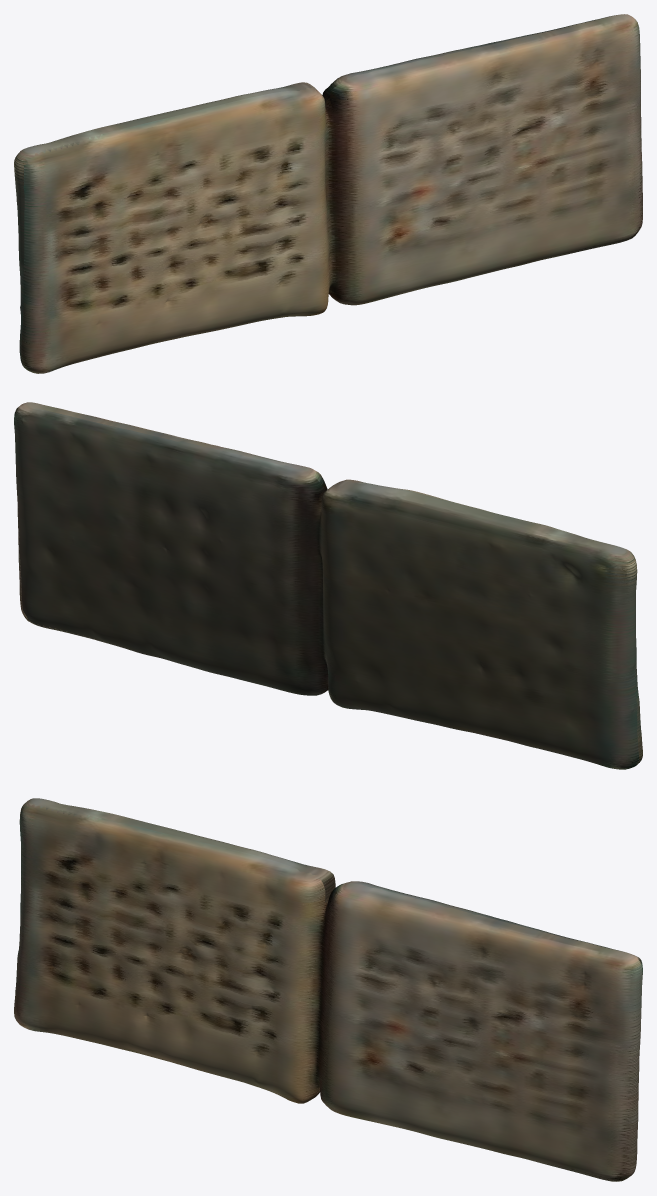
The model's file is kfl-2199.glb.
3 views of the same model, one above another, from view 1: azimuth 30°, elevation 25°; view 2: azimuth 150°, elevation 25°; view 3: azimuth 330°, elevation 25° (orthographic).
Parts seen in each view (by area): view 1: geometry_0; view 2: geometry_0; view 3: geometry_0.
Boxes of the visible parts, box(x1,y1,x2,y2) form: geometry_0: box(14, 14, 642, 373); geometry_0: box(14, 402, 642, 769); geometry_0: box(14, 798, 642, 1181).
Size of the model in its own units: 0.9922 by 0.3485 by 0.093.
1 material, 1 textured.
